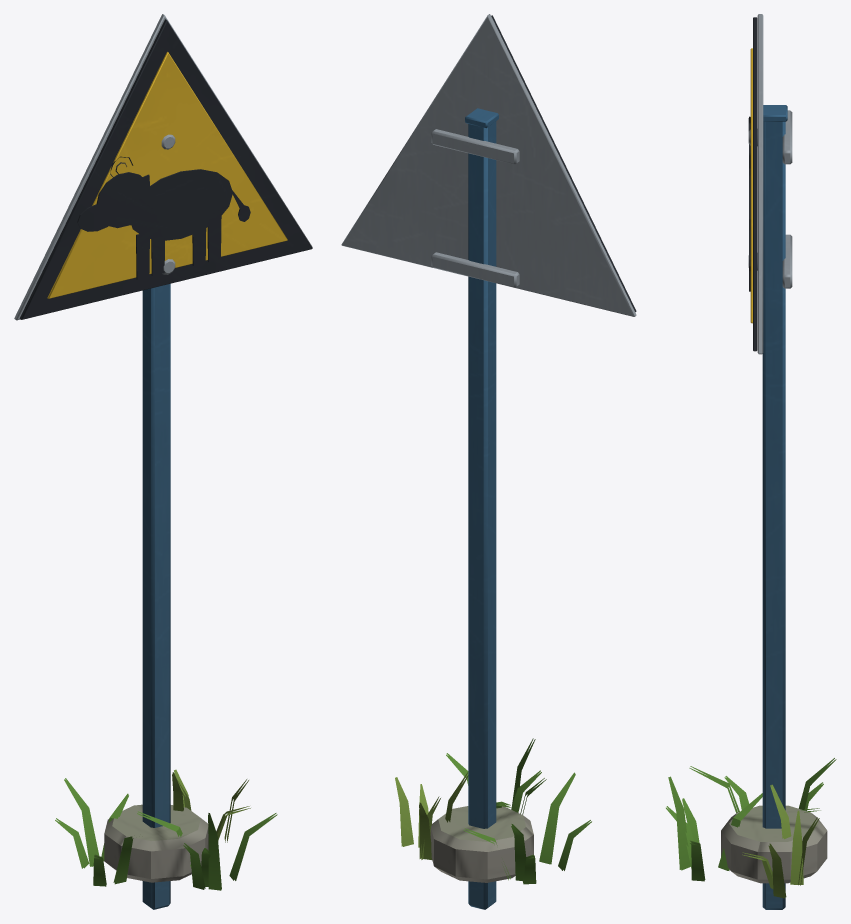
The model's file is road_sign_animal.glb.
The picture shows the model from 3 angles, left to right: view 1: azimuth 30°, elevation 25°; view 2: azimuth 150°, elevation 25°; view 3: azimuth 270°, elevation 25°; orthographic projection.
Visible parts, largest first — view 1: road_sign_animal; view 2: road_sign_animal; view 3: road_sign_animal.
Boxes of the visible parts, bbox=[...] form: road_sign_animal: bbox=[14, 14, 312, 909]; road_sign_animal: bbox=[341, 14, 636, 909]; road_sign_animal: bbox=[666, 14, 836, 909].
Size of the model in its own units: 0.8977 by 2.59 by 0.4498.
Materials: 10 (10 with a texture image).
